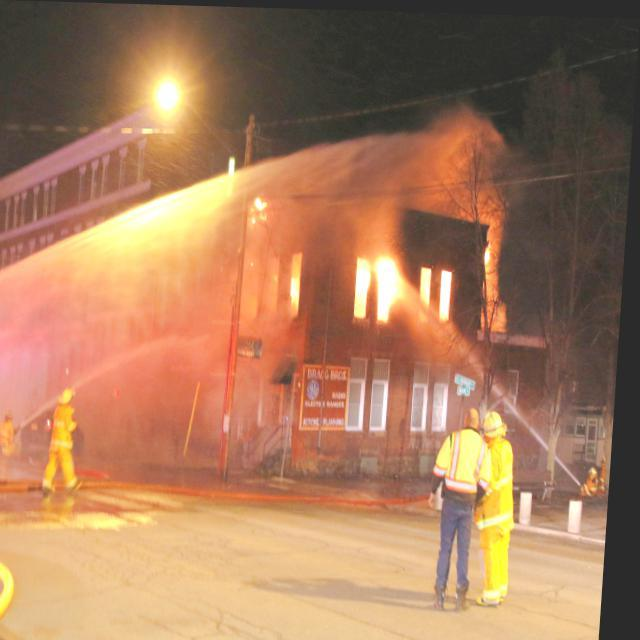Fire: (276, 240, 512, 340)
